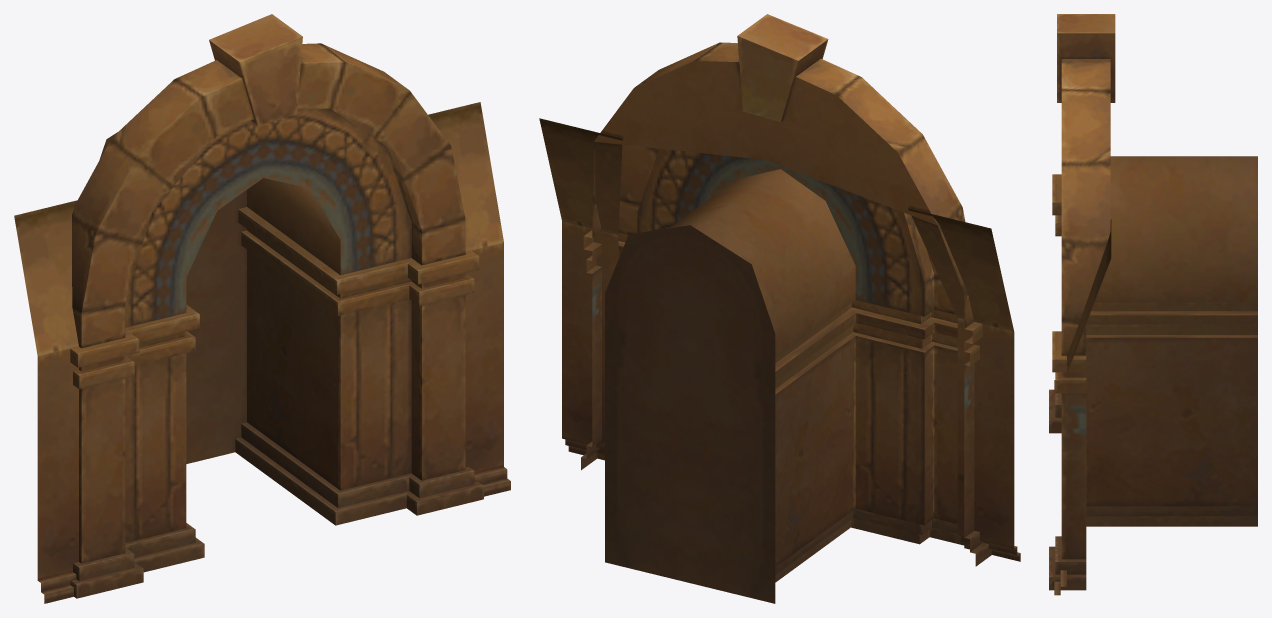
File: shakian_cliff_base6_wallgroup01_01.FBX
3 renders of one model, left to right at view 1: azimuth 30°, elevation 25°; view 2: azimuth 150°, elevation 25°; view 3: azimuth 270°, elevation 25°, orthographic. The views are drawn at different scales.
Parts seen in each view (by area): view 1: shakian_cliff_base6_wallgroup01_01; view 2: shakian_cliff_base6_wallgroup01_01; view 3: shakian_cliff_base6_wallgroup01_01.
Boxes of the visible parts, <box> form: shakian_cliff_base6_wallgroup01_01: <box>14,14,510,603</box>; shakian_cliff_base6_wallgroup01_01: <box>539,14,1020,603</box>; shakian_cliff_base6_wallgroup01_01: <box>1049,14,1257,595</box>.
Bounding box in the file's own units: 8 × 8.24 × 3.28.
